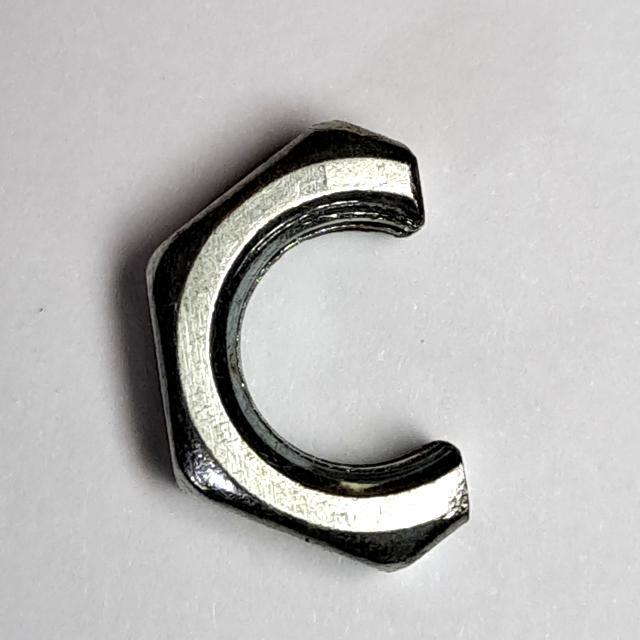Fracture: (128, 102, 488, 589)
